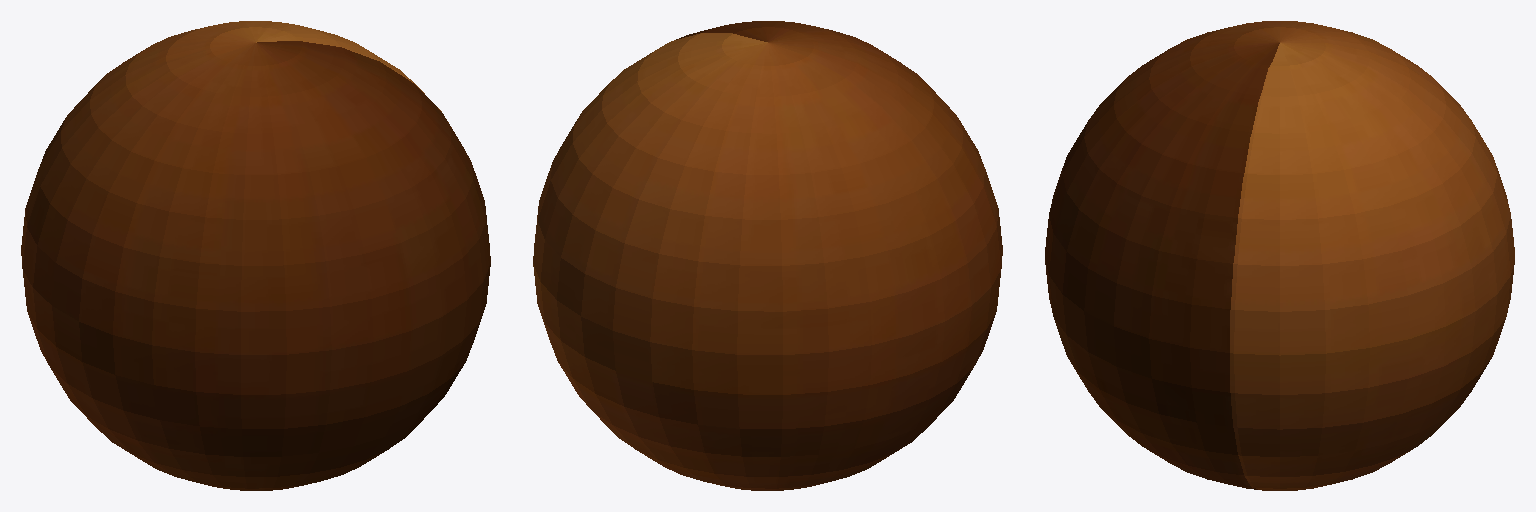
3 renders of one model, left to right at view 1: azimuth 30°, elevation 25°; view 2: azimuth 150°, elevation 25°; view 3: azimuth 270°, elevation 25°, orthographic.
Visible parts, largest first — view 1: Esfera; view 2: Esfera; view 3: Esfera.
Boxes of the visible parts, box(x1,y1,x2,y2) form: Esfera: box(21, 21, 490, 490); Esfera: box(533, 21, 1002, 490); Esfera: box(1045, 21, 1514, 490).
Size of the model in its own units: 2 by 2 by 2.
1 materials, 1 textured.